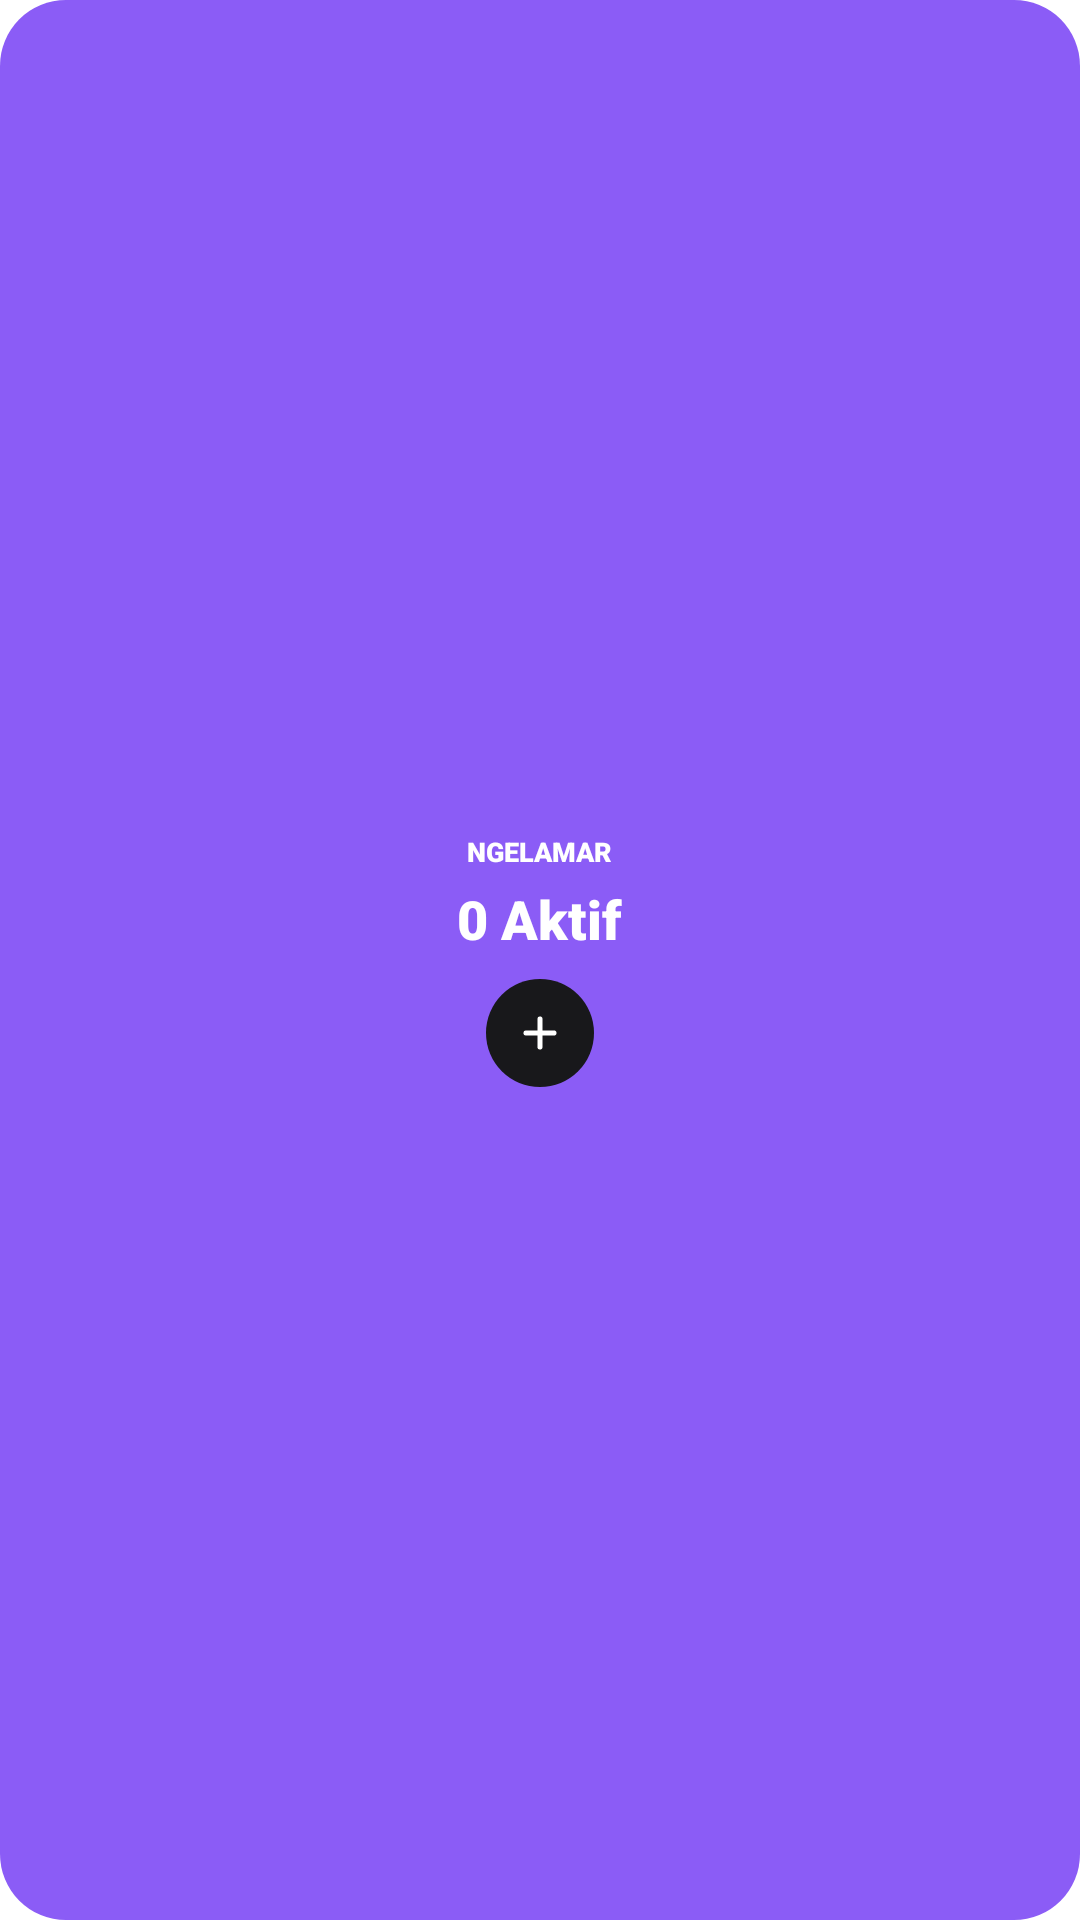

Icons on this 1080px×1920px Android screen, each with its box as {"left": x1, "top": y1, "right": x2, "bottom": y2}:
Catat lamaran baru: {"left": 523, "top": 1016, "right": 557, "bottom": 1050}
